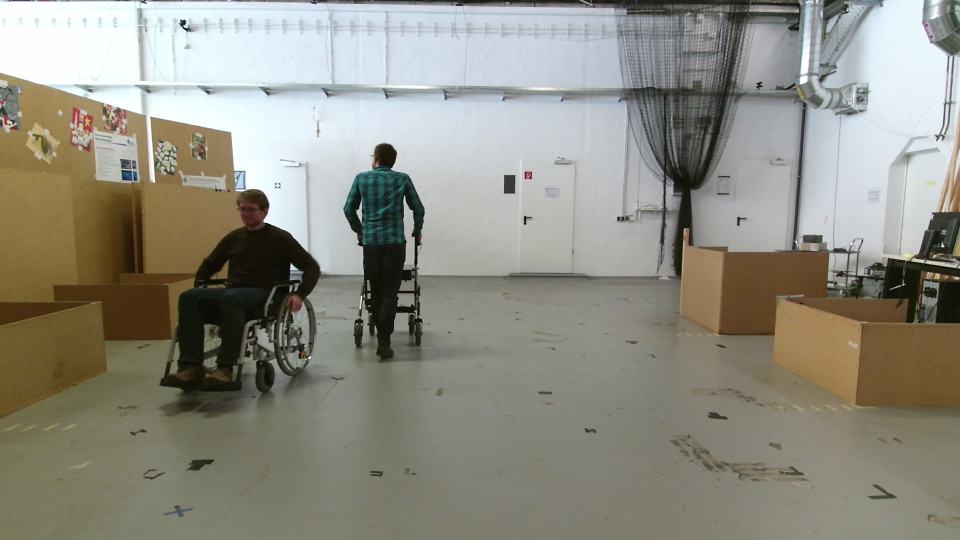wheelchair: (154, 182, 322, 401)
